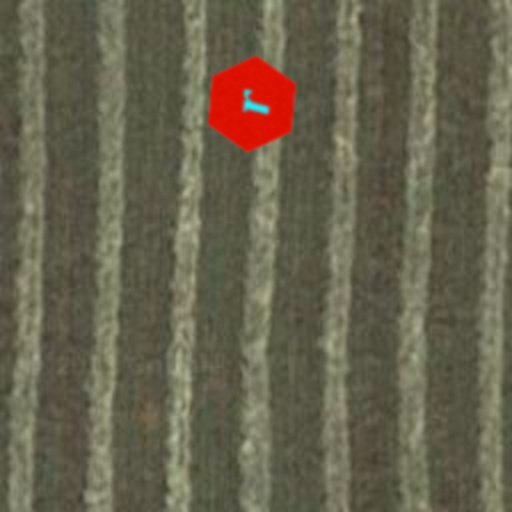hexagon: (198, 50, 306, 158)
